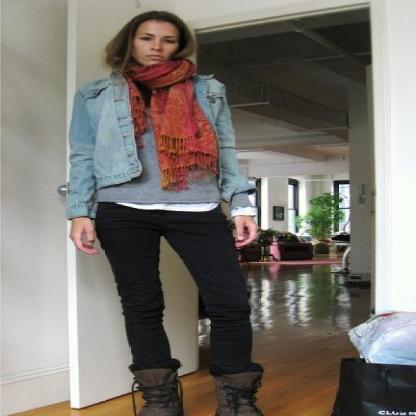jacket: (57, 62, 257, 220)
pants: (89, 202, 261, 376)
shoe: (125, 368, 263, 416)
